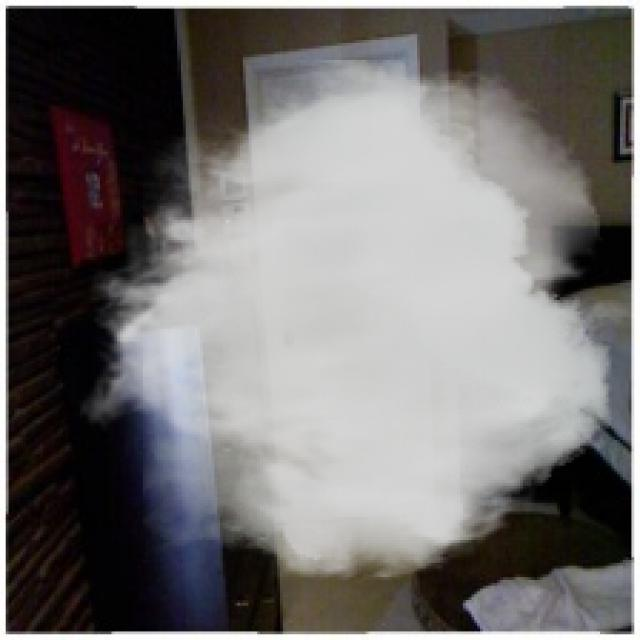smoke: (77, 60, 612, 586)
